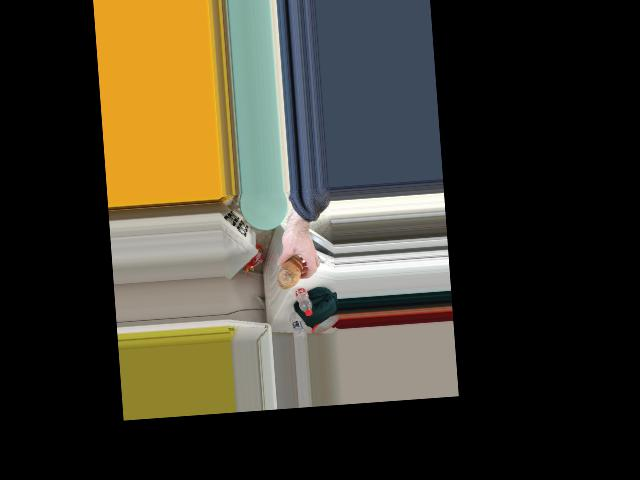sweet_potato: (275, 253, 306, 289)
